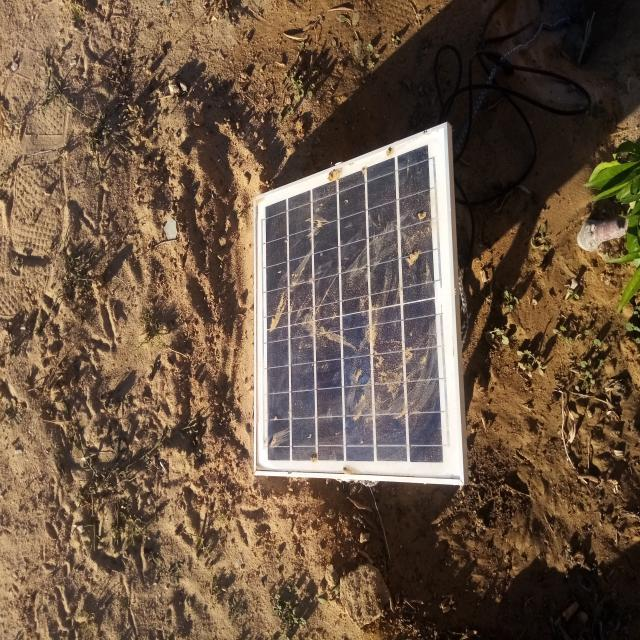faulty: (254, 122, 463, 481)
